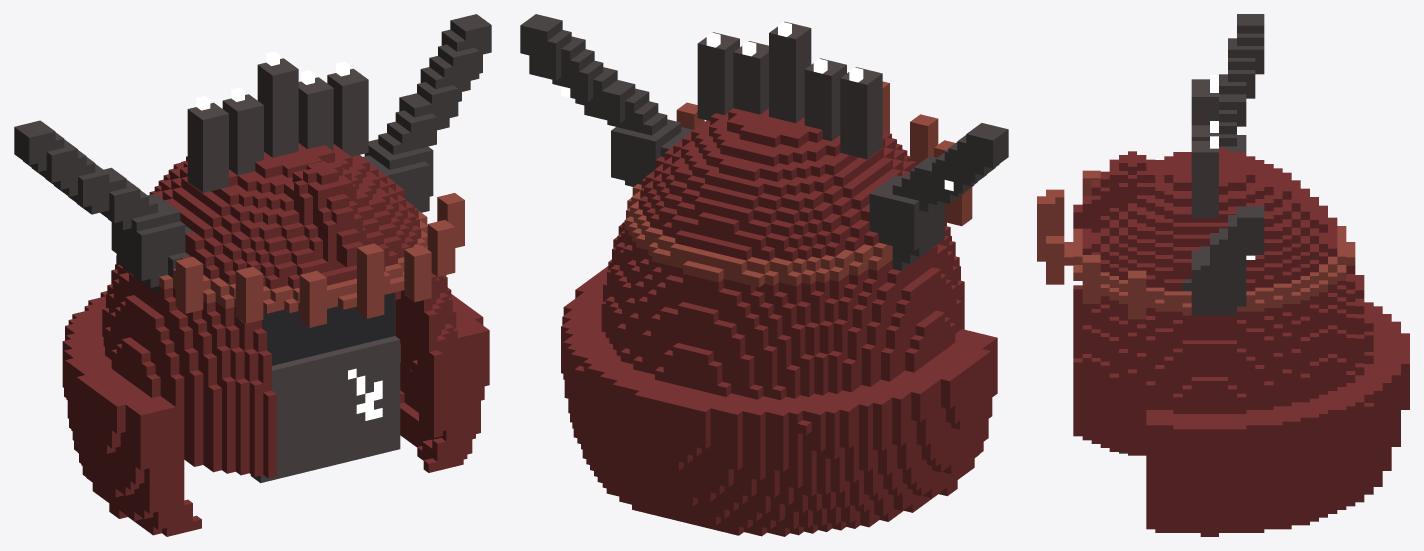
Rendered from cloth_masterwork_helmet.glb.
3 renders of one model, left to right at view 1: azimuth 30°, elevation 25°; view 2: azimuth 150°, elevation 25°; view 3: azimuth 270°, elevation 25°, orthographic. The views are drawn at different scales.
Visible parts, largest first — view 1: cloth_masterwork_helmet; view 2: cloth_masterwork_helmet; view 3: cloth_masterwork_helmet.
Boxes of the visible parts, x1,y1,x2,y2 form: cloth_masterwork_helmet: (14, 14, 491, 536); cloth_masterwork_helmet: (520, 14, 1008, 536); cloth_masterwork_helmet: (1037, 14, 1409, 536).
Size of the model in its own units: 0.636 by 0.552 by 0.492.
